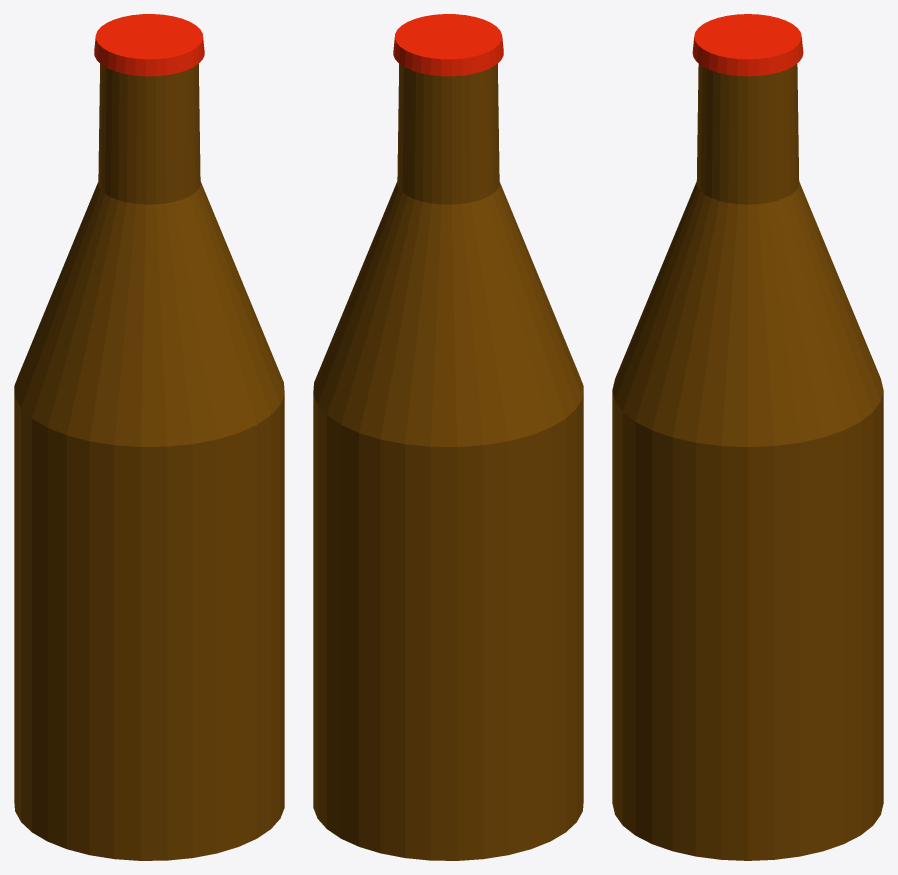
Rendered from bottle.fbx.
The picture shows the model from 3 angles, left to right: view 1: azimuth 30°, elevation 25°; view 2: azimuth 150°, elevation 25°; view 3: azimuth 270°, elevation 25°; orthographic projection.
Parts seen in each view (by area): view 1: bottle; view 2: bottle; view 3: bottle.
Boxes of the visible parts, x1,y1,x2,y2 form: bottle: [14, 14, 284, 860]; bottle: [313, 14, 583, 860]; bottle: [612, 14, 883, 860].
Bounding box in the file's own units: 200 × 624 × 200.
